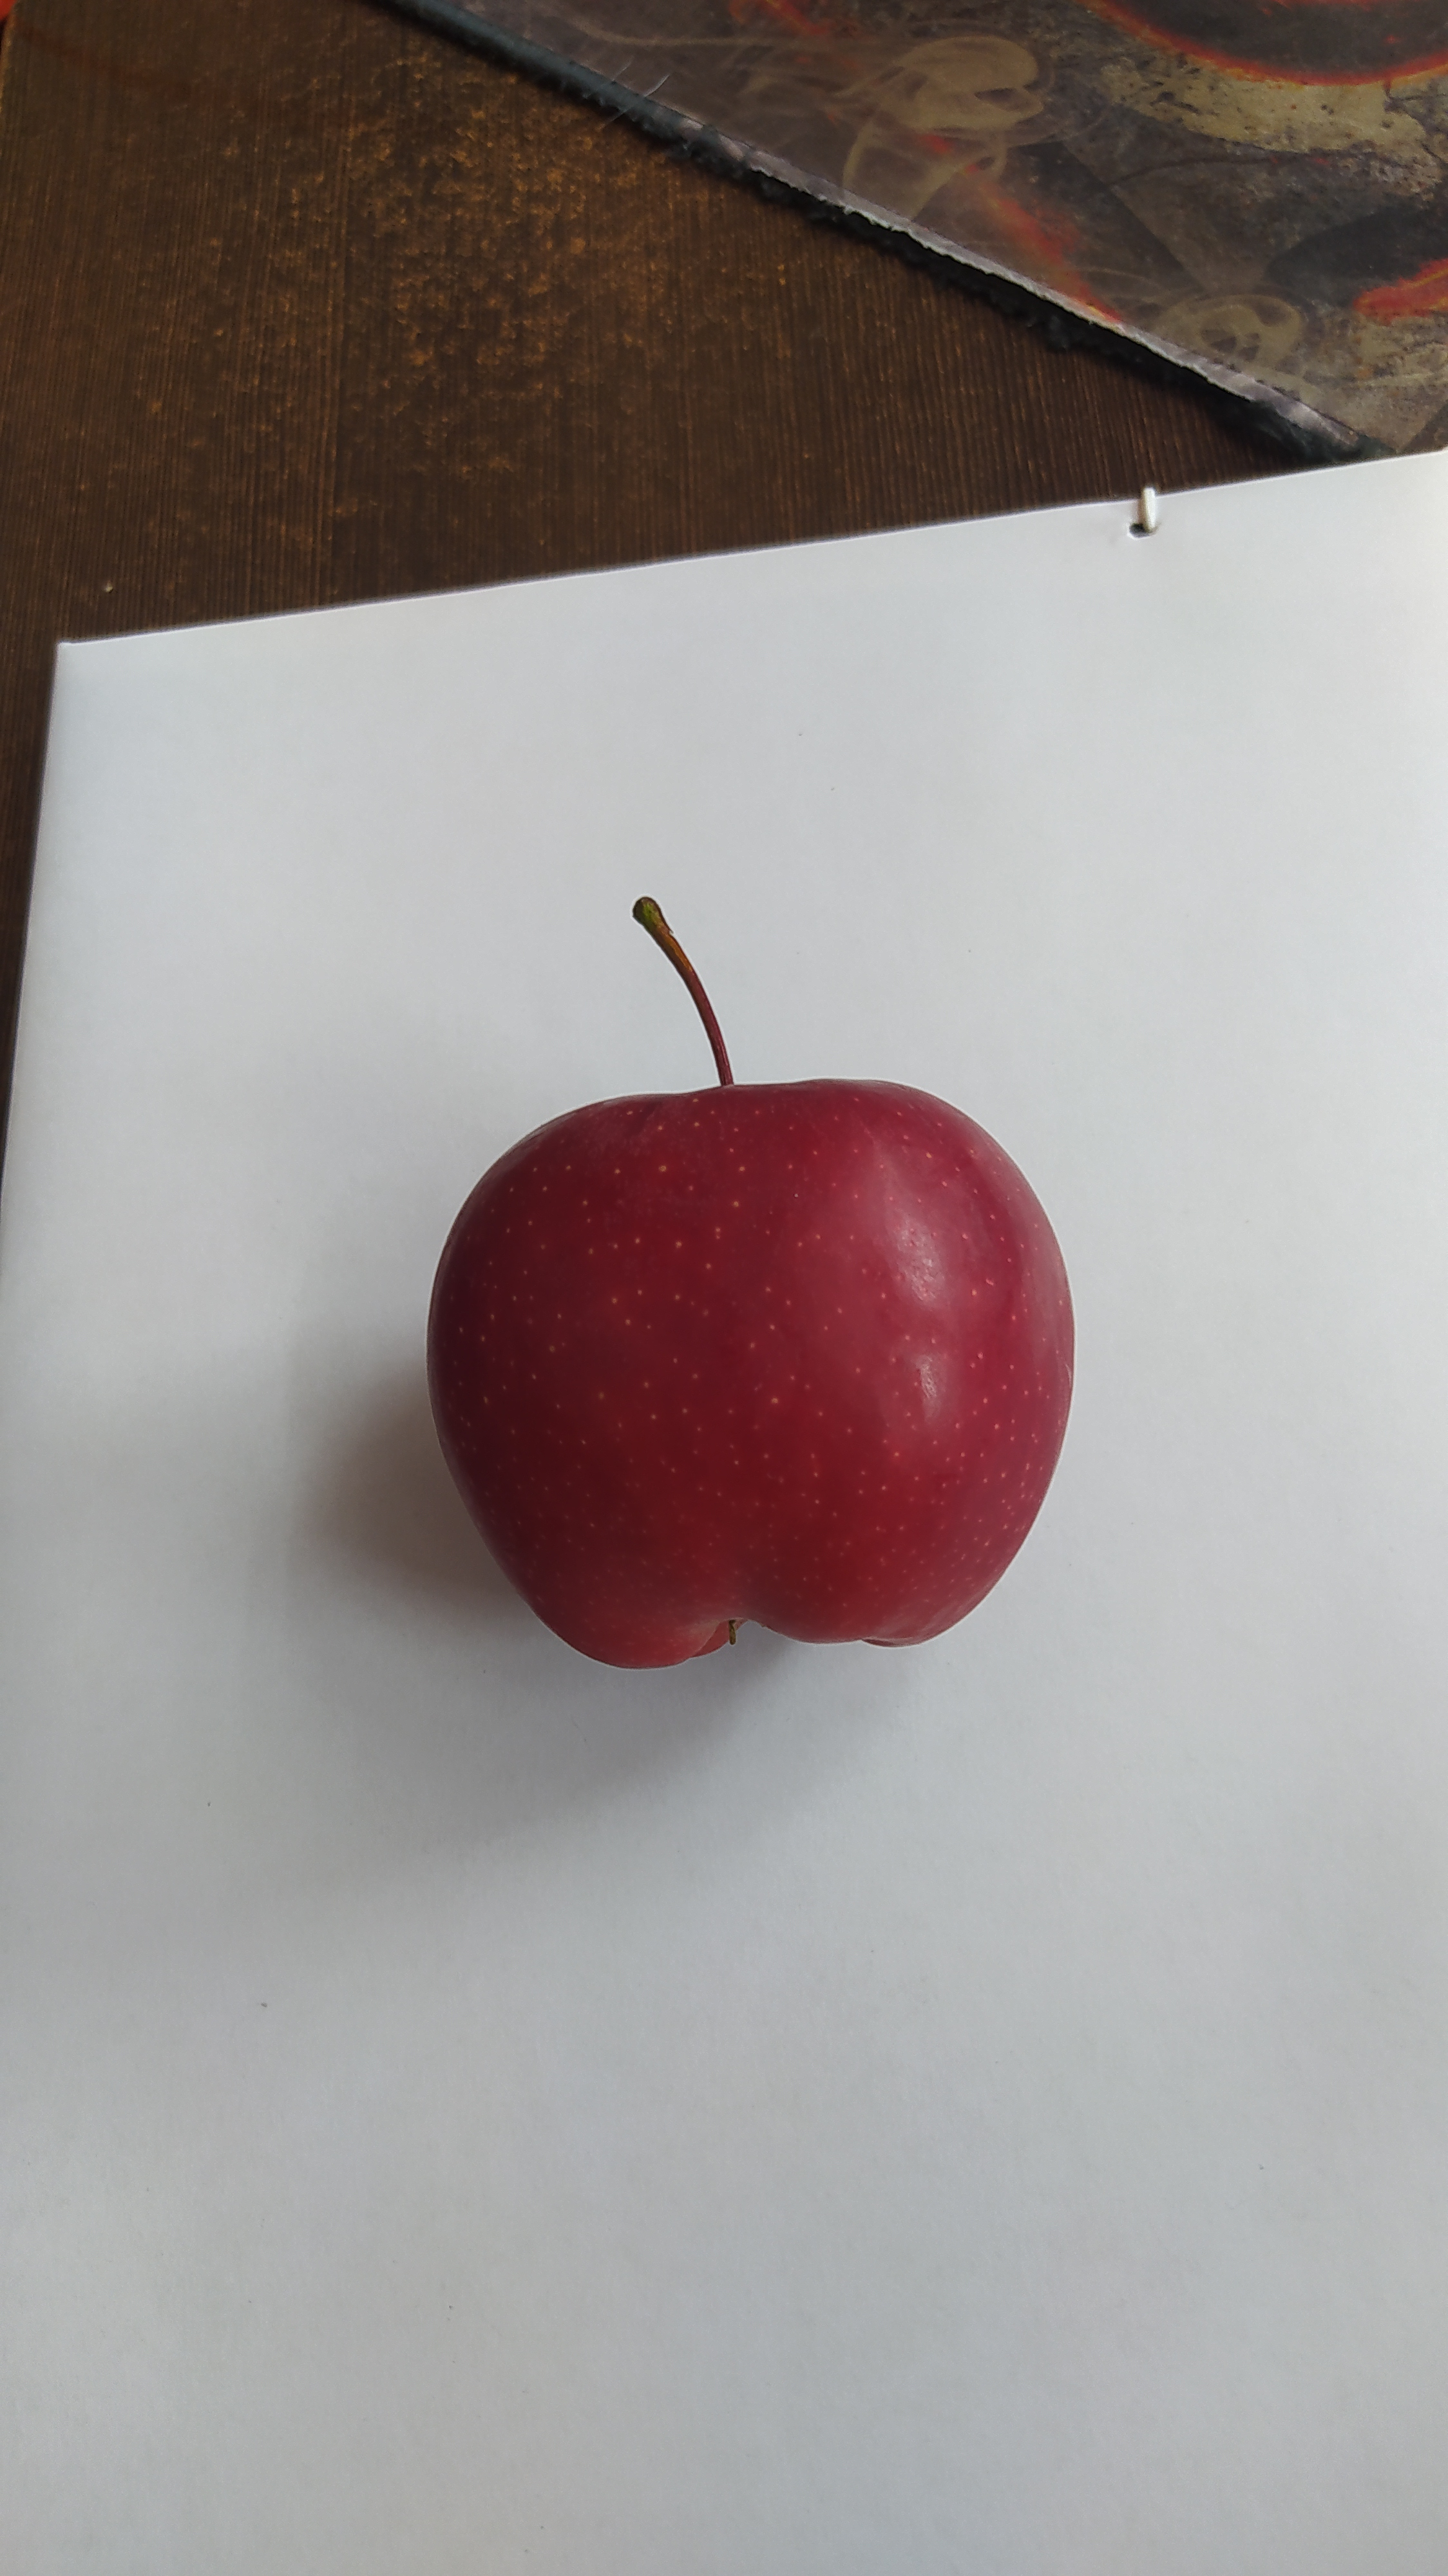apple: (425, 1077, 1082, 1667)
